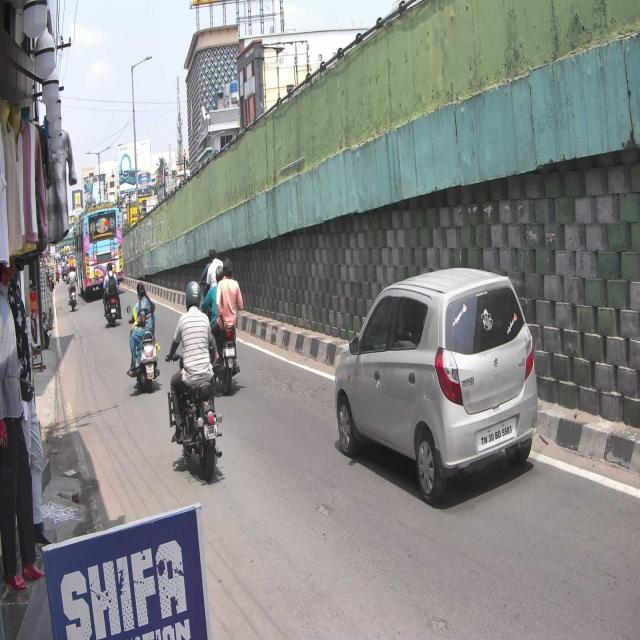single_rider: (167, 276, 226, 477)
